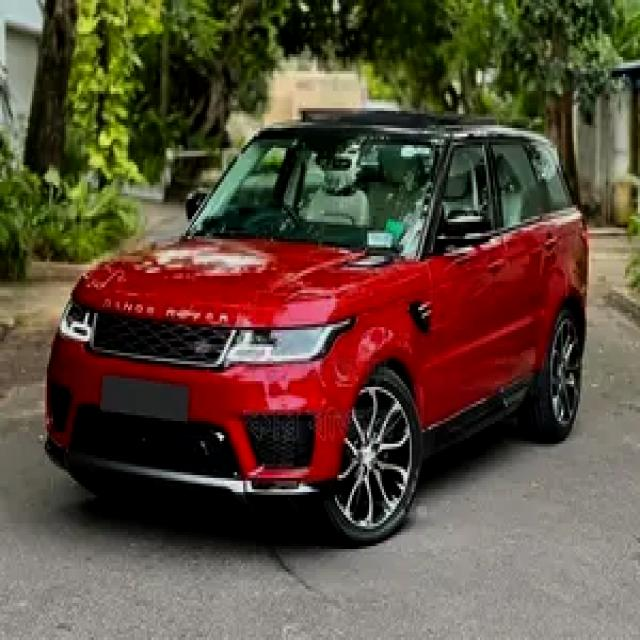red: (47, 117, 590, 525)
